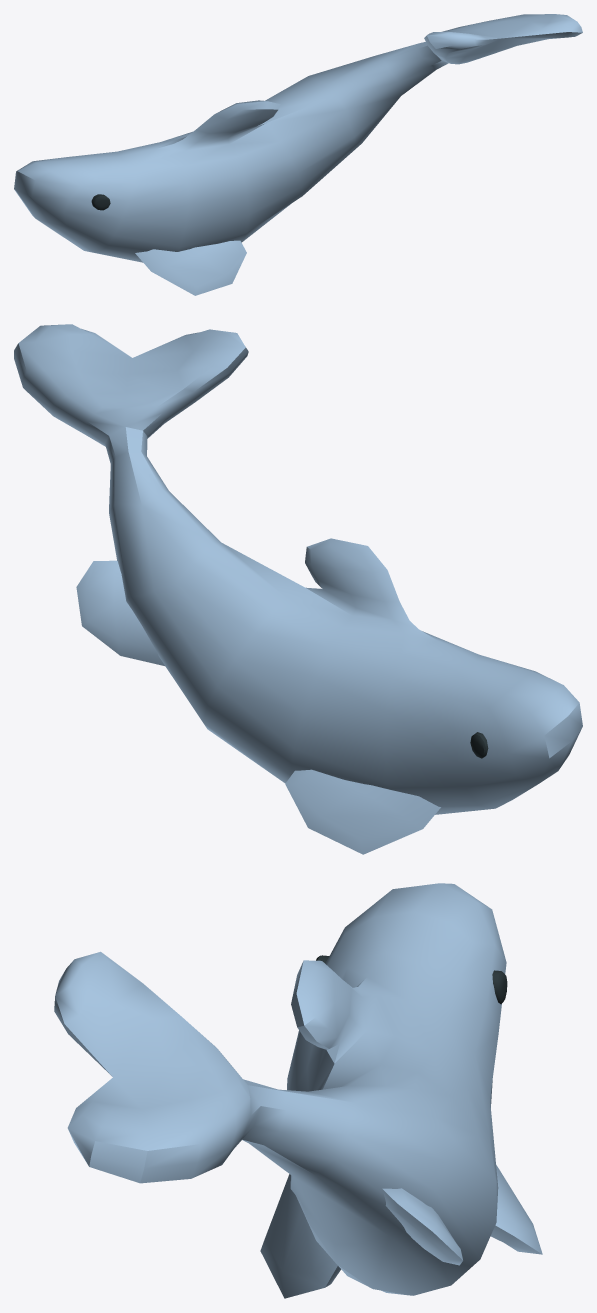
Rendered from fish_large_C.gltf.glb.
3 views of the same model, one above another, from view 1: azimuth 30°, elevation 25°; view 2: azimuth 150°, elevation 25°; view 3: azimuth 270°, elevation 25° (orthographic). The views are drawn at different scales.
Visible parts, largest first — view 1: fish_large_C; view 2: fish_large_C; view 3: fish_large_C.
Boxes of the visible parts, bbox=[...] form: fish_large_C: bbox=[14, 14, 582, 295]; fish_large_C: bbox=[14, 324, 582, 854]; fish_large_C: bbox=[54, 883, 542, 1298].
Size of the model in its own units: 1.05 by 0.5172 by 0.461.
